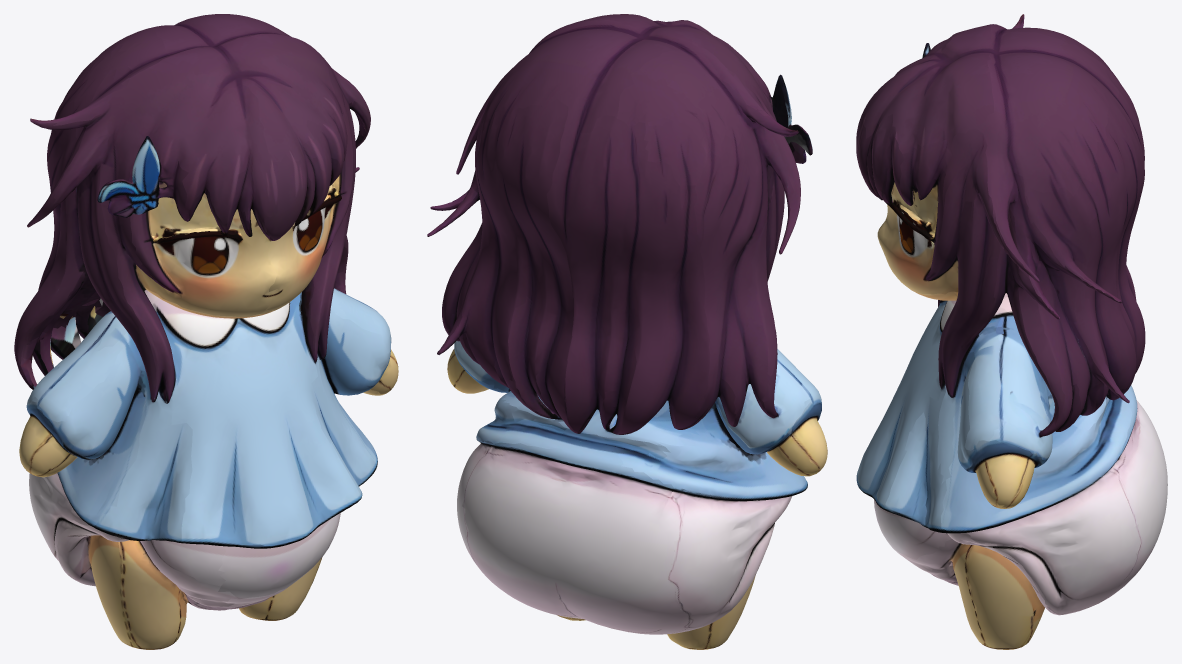
File: Niki.glb
3 renders of one model, left to right at view 1: azimuth 30°, elevation 25°; view 2: azimuth 150°, elevation 25°; view 3: azimuth 270°, elevation 25°, orthographic. The views are drawn at different scales.
Visible parts, largest first — view 1: temp_mesh.ply; view 2: temp_mesh.ply; view 3: temp_mesh.ply.
Part boxes in pixels (left/top/right/bottom): temp_mesh.ply: left=14, top=14, right=398, bottom=649; temp_mesh.ply: left=427, top=14, right=827, bottom=649; temp_mesh.ply: left=856, top=14, right=1167, bottom=649.
Size of the model in its own units: 1.29 by 1.95 by 0.9705.
Materials: 1 (1 with a texture image).
